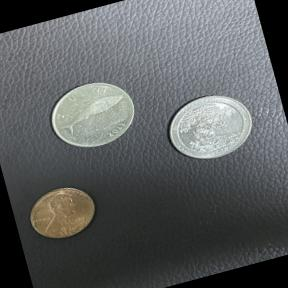coin: (39, 69, 148, 162), (156, 82, 264, 172), (18, 175, 108, 251)
